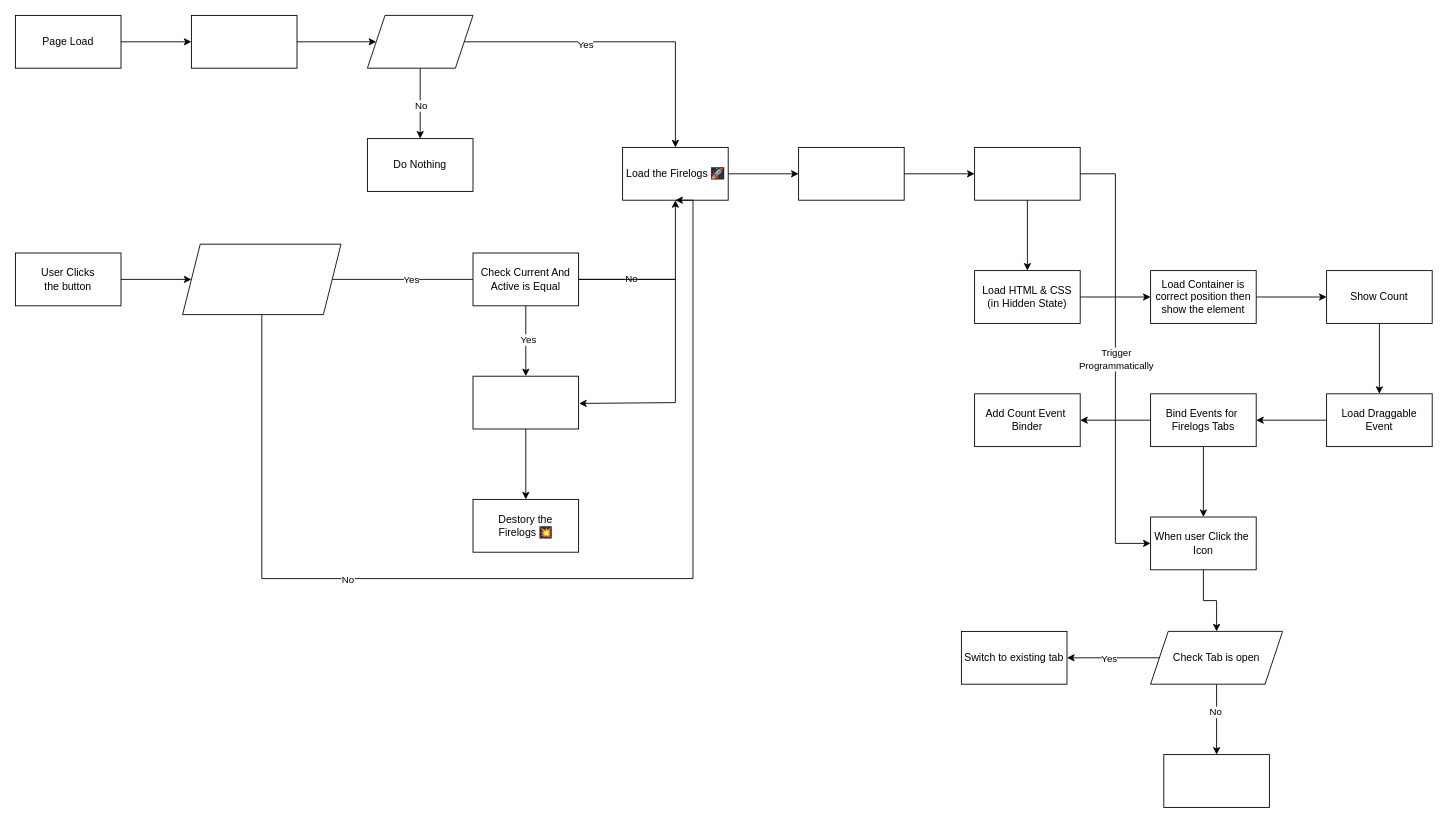
Some shapes in this 1448 by 823 pixel diagram are drawn without their labels. Here are the shapes that lost their labels. From the top down, the box of each, then its label:
(191, 15, 297, 68): Check Are any Active Tabs is set in the storage
(367, 15, 473, 68): If it is Yes
(798, 147, 904, 200): Set Active Tab
(974, 147, 1080, 200): Load Script
(182, 243, 341, 315): Check are active tabs any available
(472, 375, 579, 429): Delete the active Tab
(1163, 754, 1269, 807): Create new Tab
